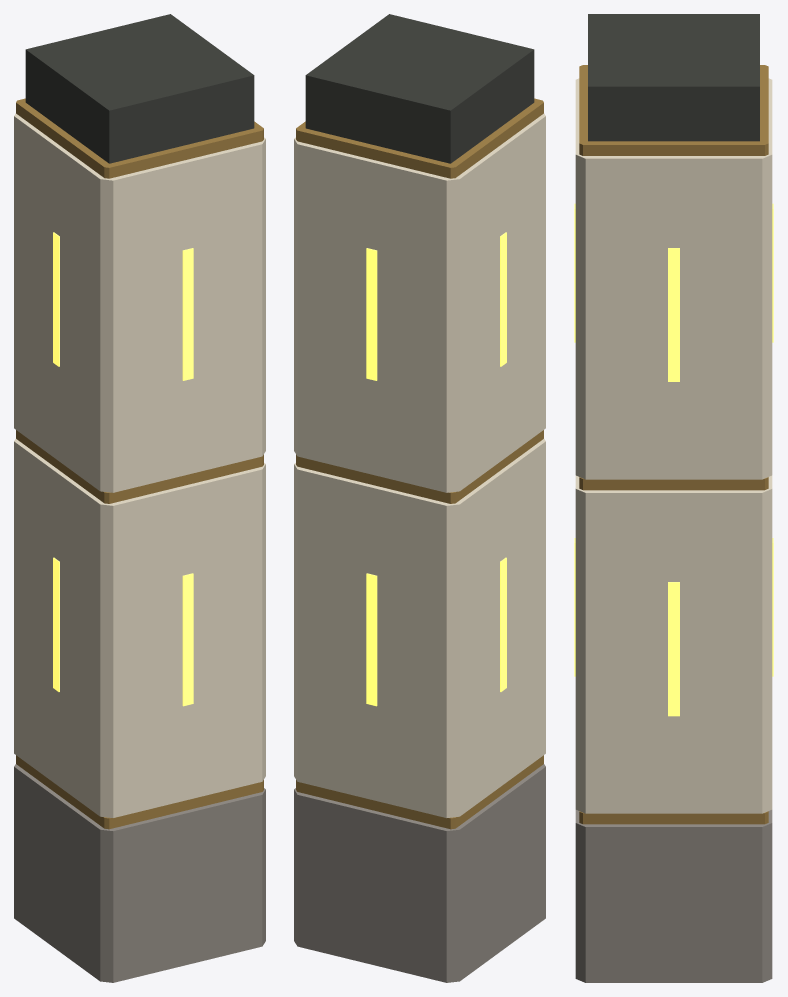
The model's file is b4_column_wide.glb.
3 renders of one model, left to right at view 1: azimuth 30°, elevation 25°; view 2: azimuth 150°, elevation 25°; view 3: azimuth 270°, elevation 25°, orthographic. The views are drawn at different scales.
Parts seen in each view (by area): view 1: b4_column_wide; view 2: b4_column_wide; view 3: b4_column_wide.
Part boxes in pixels (box(x1,y1,x2,y2)): b4_column_wide: box(14, 14, 265, 982); b4_column_wide: box(294, 14, 545, 982); b4_column_wide: box(574, 14, 773, 982).
Size of the model in its own units: 1.62 by 8 by 1.62.
